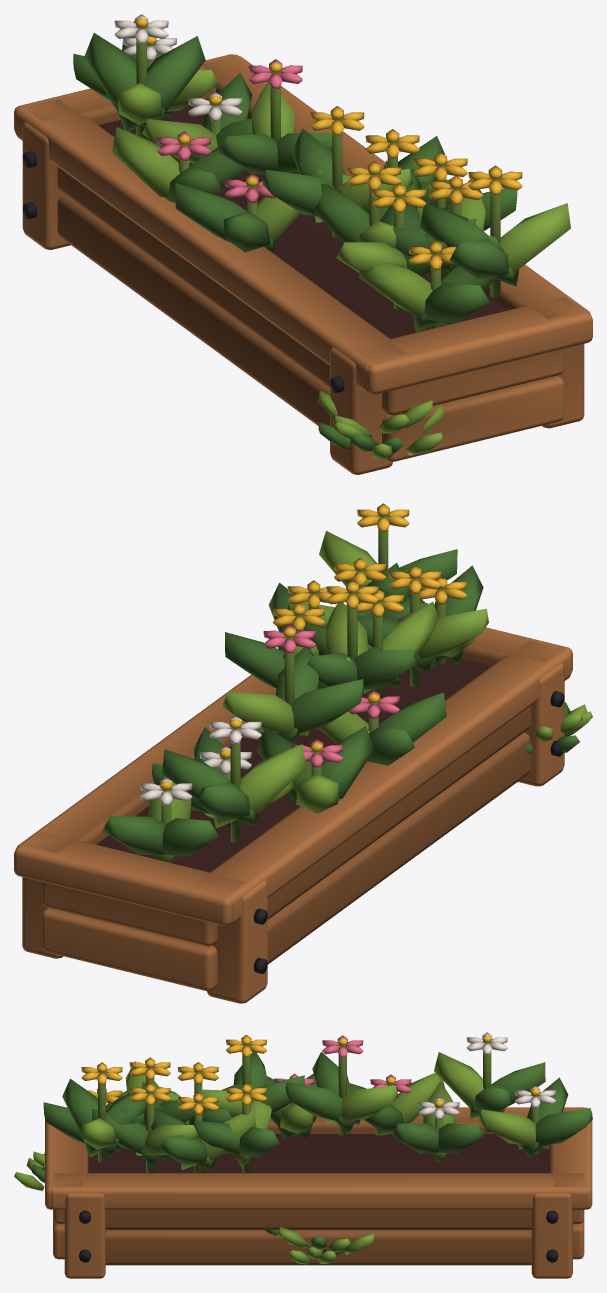
The model's file is prop.flower-box.glb.
The picture shows the model from 3 angles, top to bottom: view 1: azimuth 30°, elevation 25°; view 2: azimuth 150°, elevation 25°; view 3: azimuth 270°, elevation 25°; orthographic projection. The views are drawn at different scales.
Size of the model in its own units: 0.5619 by 0.4696 by 1.26.
